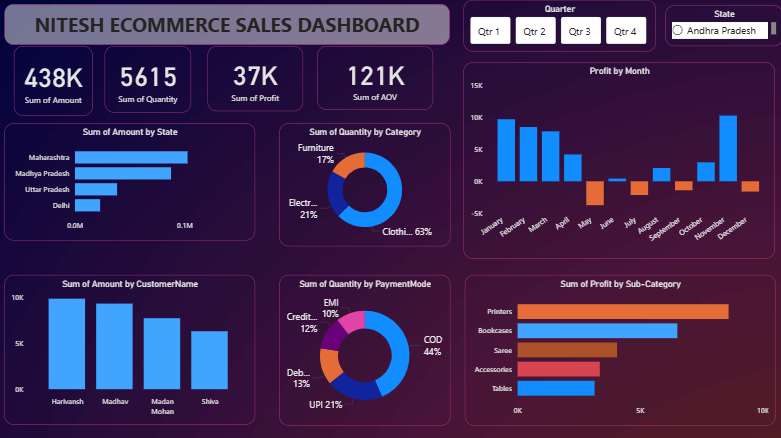

Layout of this report page (visuals, bound fields, positions):
{"tool":"powerbi","page":{"name":"Page 1","canvas":[1280,720],"ordinal":0},"visuals":[{"type":"textbox","box":[8.9,6.7,726.7,66.7],"z":0},{"type":"columnChart","title":"Profit by Month","fields":{"Y":["Sum(Details.Profit)"],"Category":["Orders.Order Date.Variation.Date Hierarchy.Month"]},"box":[760.5,83.3,507,320.5],"z":1},{"type":"barChart","fields":{"Category":["Details.Sub-Category"],"Y":["Sum(Details.Profit)"]},"box":[760.5,449.1,507,246.3],"z":2},{"type":"donutChart","fields":{"Category":["Details.Category"],"Y":["Sum(Details.Quantity)"]},"box":[458.1,201,278.9,201],"z":3},{"type":"donutChart","fields":{"Y":["Sum(Details.Quantity)"],"Category":["Details.PaymentMode"]},"box":[458.1,449.1,278.9,246.3],"z":4},{"type":"card","fields":{"Values":["Sum(Details.Amount)"]},"box":[23.5,74.2,128.6,114.1],"z":5},{"type":"card","fields":{"Values":["Sum(Details.Quantity)"]},"box":[172,74.2,141.2,108.6],"z":6},{"type":"card","fields":{"Values":["Sum(Details.Profit)"]},"box":[340,75.6,155.6,106.7],"z":7},{"type":"card","fields":{"Values":["Sum(Details.AOV)"]},"box":[520,75.6,188.9,104.4],"z":8},{"type":"barChart","fields":{"Category":["Orders.State"],"Y":["Sum(Details.Amount)"]},"box":[8.9,200,408.9,191.1],"z":9},{"type":"columnChart","fields":{"Category":["Orders.CustomerName"],"Y":["Sum(Details.Amount)"]},"box":[8.9,448.9,408.9,244.4],"z":10},{"type":"advancedSlicerVisual","fields":{"Values":["Orders.Order Date.Variation.Date Hierarchy.Quarter"]},"box":[760.1,17.7,293.9,57.4],"z":12},{"type":"listSlicer","fields":{"Values":["Orders.State"]},"box":[1073.8,17.7,192.2,66.3],"z":13}]}

Visuals, with their boxes in screenshot pixels (x1, y1, x2, y2), scaled from the page's 1280x720 canvas onto the 781x438 screenshot:
textbox: {"x1": 5, "y1": 4, "x2": 449, "y2": 45}
"Profit by Month" columnChart: {"x1": 464, "y1": 51, "x2": 773, "y2": 246}
barChart - Details.Sub-Category x Sum(Details.Profit): {"x1": 464, "y1": 273, "x2": 773, "y2": 423}
donutChart - Details.Category x Sum(Details.Quantity): {"x1": 280, "y1": 122, "x2": 450, "y2": 245}
donutChart - Sum(Details.Quantity) x Details.PaymentMode: {"x1": 280, "y1": 273, "x2": 450, "y2": 423}
card - Sum(Details.Amount): {"x1": 14, "y1": 45, "x2": 93, "y2": 115}
card - Sum(Details.Quantity): {"x1": 105, "y1": 45, "x2": 191, "y2": 111}
card - Sum(Details.Profit): {"x1": 207, "y1": 46, "x2": 302, "y2": 111}
card - Sum(Details.AOV): {"x1": 317, "y1": 46, "x2": 433, "y2": 109}
barChart - Orders.State x Sum(Details.Amount): {"x1": 5, "y1": 122, "x2": 255, "y2": 238}
columnChart - Orders.CustomerName x Sum(Details.Amount): {"x1": 5, "y1": 273, "x2": 255, "y2": 422}
advancedSlicerVisual - Orders.Order Date.Variation.Date Hierarchy.Quarter: {"x1": 464, "y1": 11, "x2": 643, "y2": 46}
listSlicer - Orders.State: {"x1": 655, "y1": 11, "x2": 772, "y2": 51}
